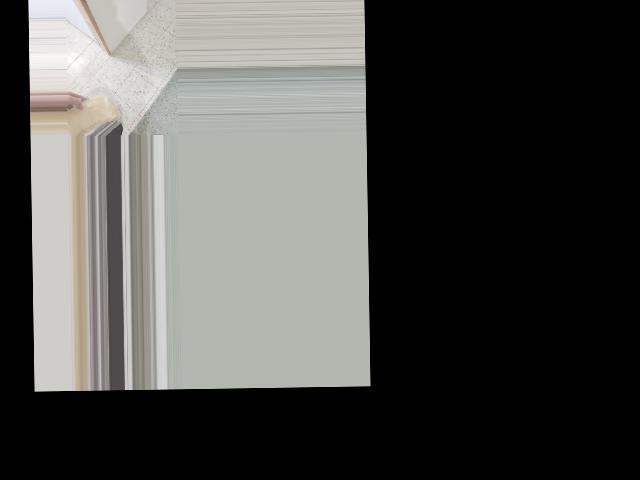cheese: (65, 87, 120, 137)
